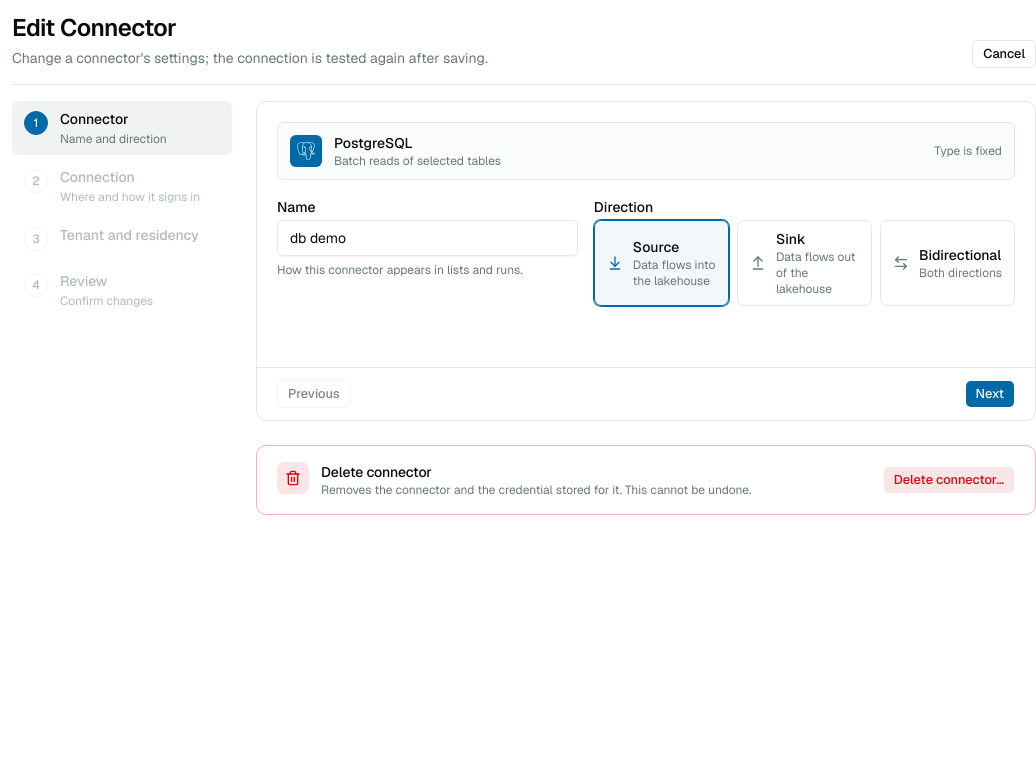
Test: ConnectorEditPage › saves only what changed, in order, then re-tests the connection
The image size is (1036, 780).
Replace the text in the field labelled "Name" with "renamed" at (427, 238), box [277,220,578,256]
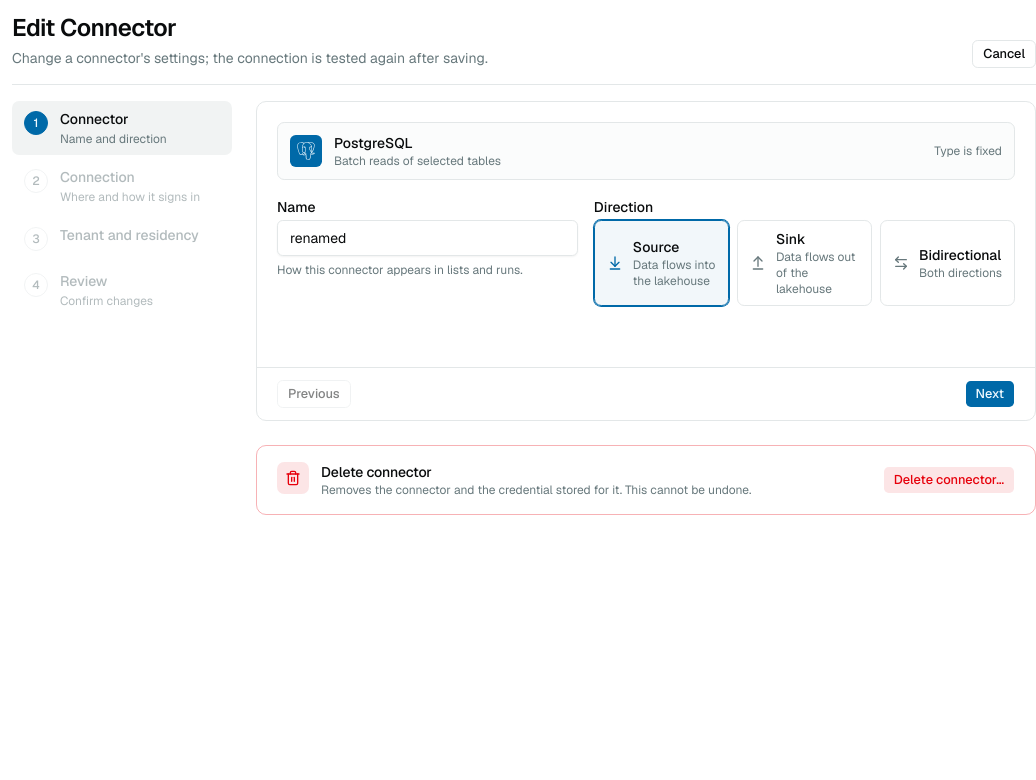
Click the button "Next".
click(990, 394)  # box [964,380,1015,408]
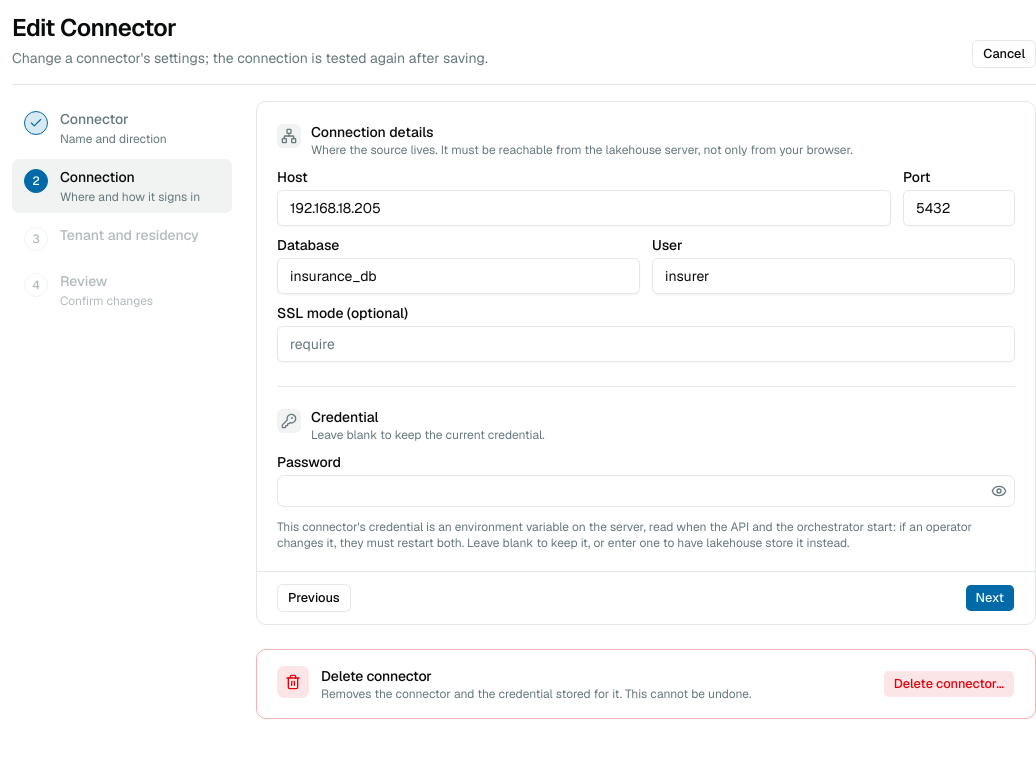
Expected: the button "Next" is enabled, [964,584,1015,612]
Expected: the field labelled "Host" holds "192.168.18.205", [277,190,891,226]
Type "n3w-pass" into the password field labelled "Password".
click(632, 491); type("n3w-pass")  # box [278,473,987,509]
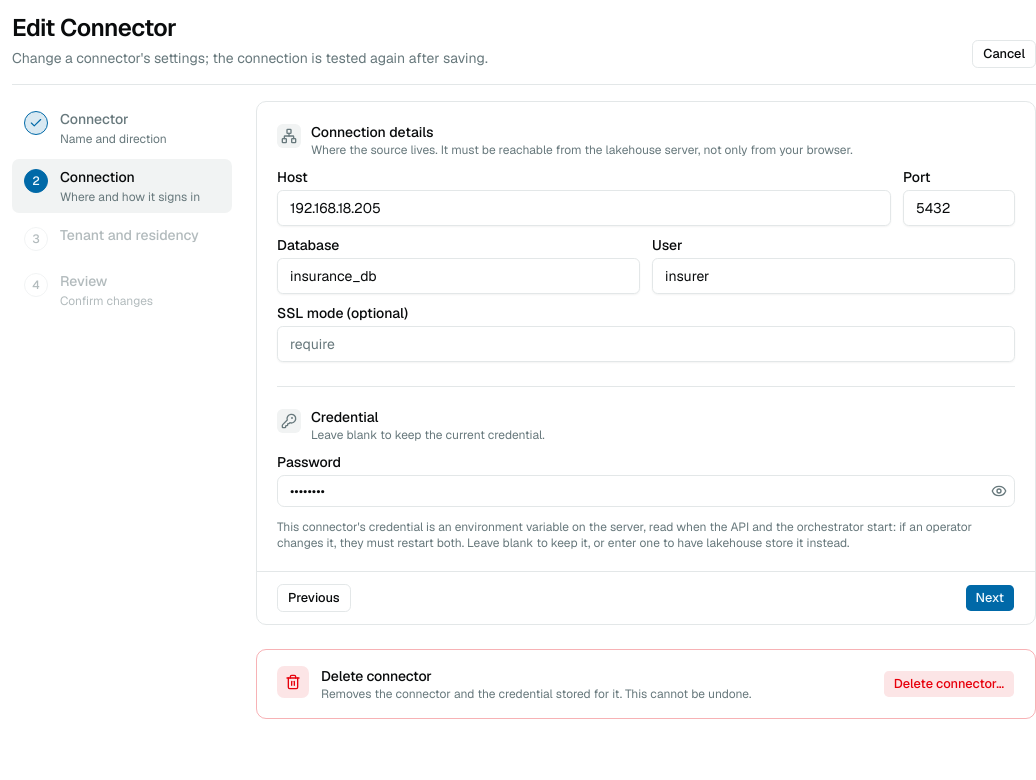
Click the button "Next".
click(990, 598)  # box [964,584,1015,612]
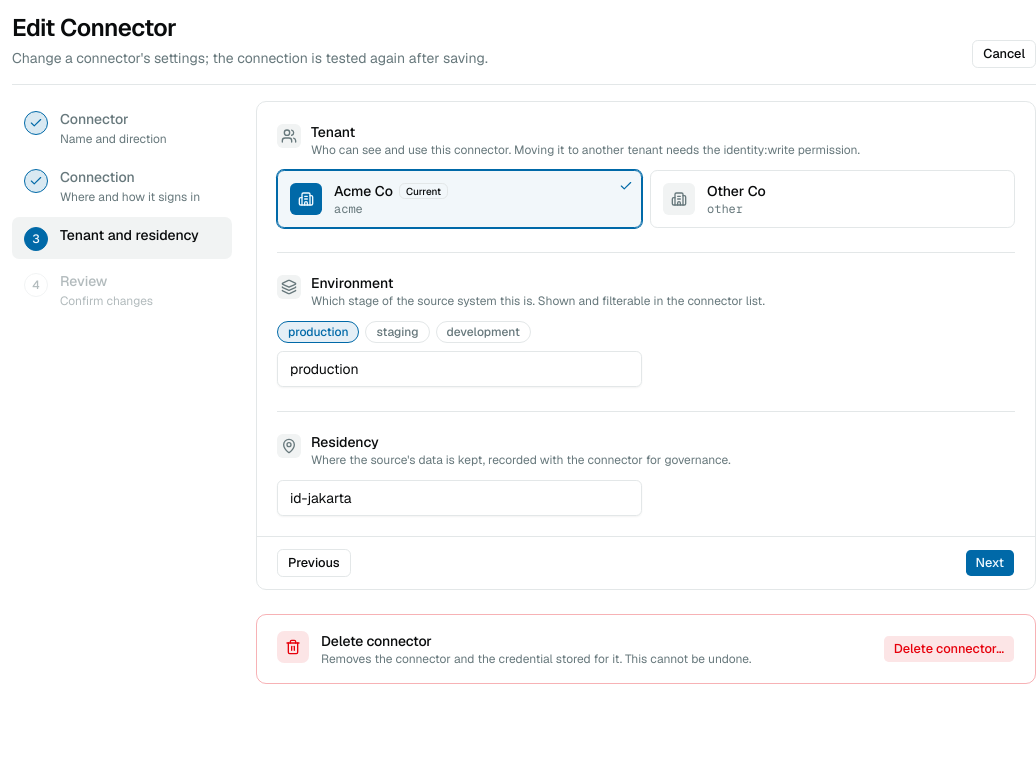
Click the button "Next".
click(990, 563)  # box [964,549,1015,577]
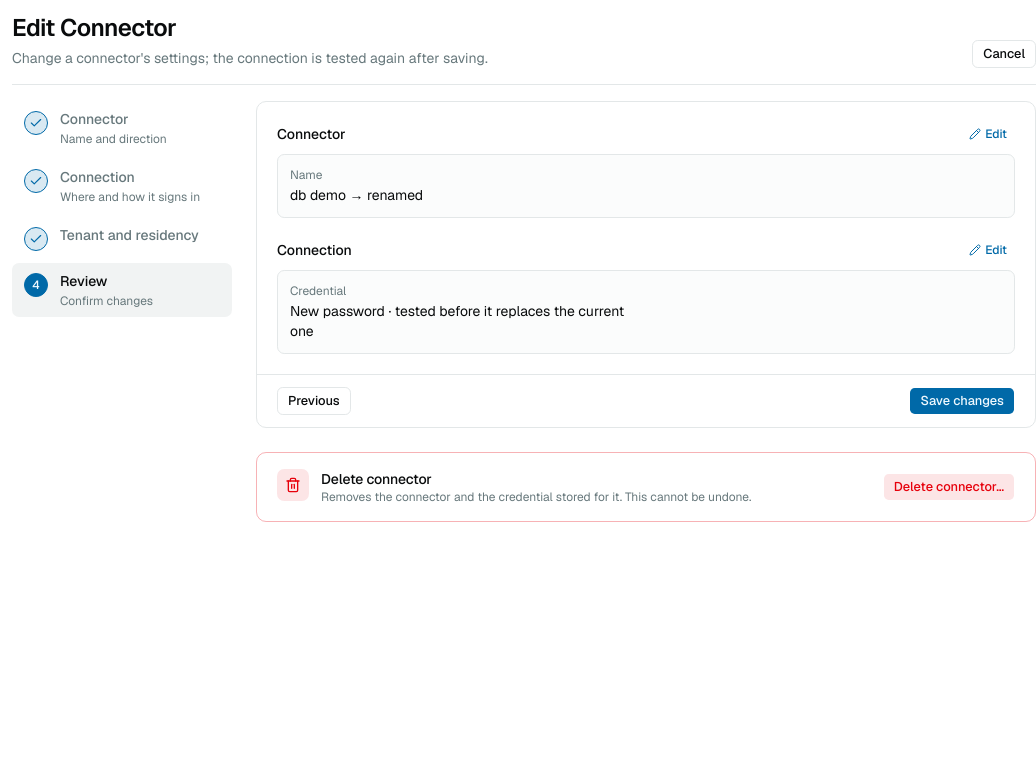
Expected: the text "db demo → renamed" is shown, [290,186,423,204]
Click the button "Save changes".
click(962, 401)  # box [910,387,1015,415]
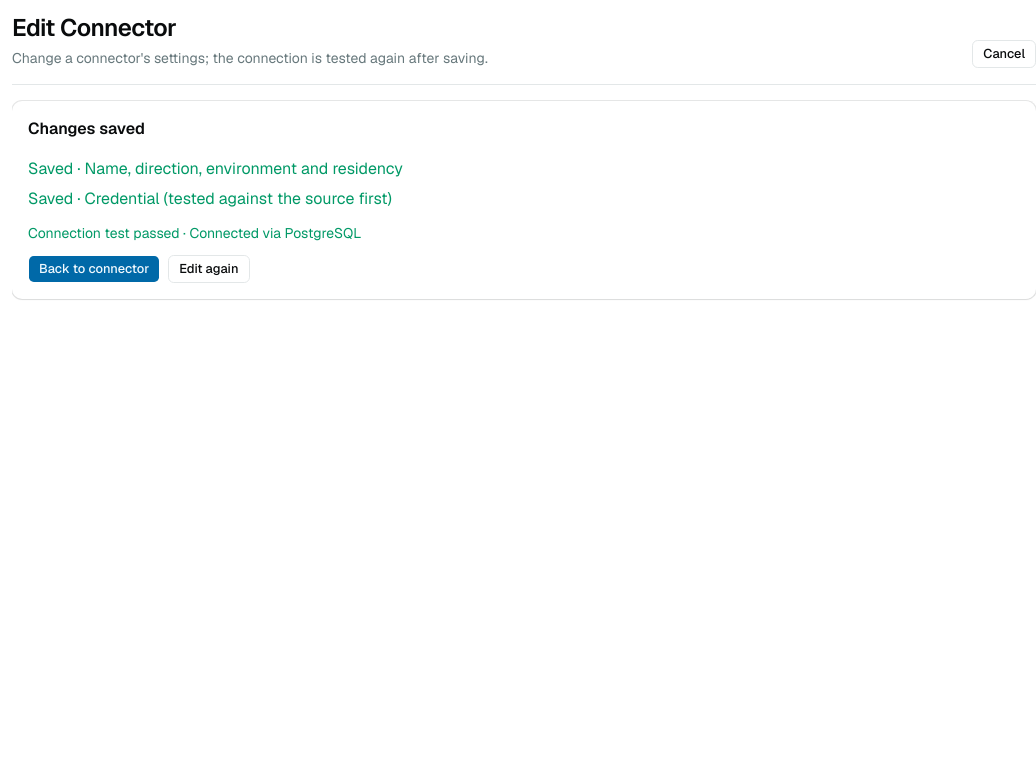
Expected: the text "Connection test passed · Connected via PostgreSQL" is shown, [28,224,361,242]
